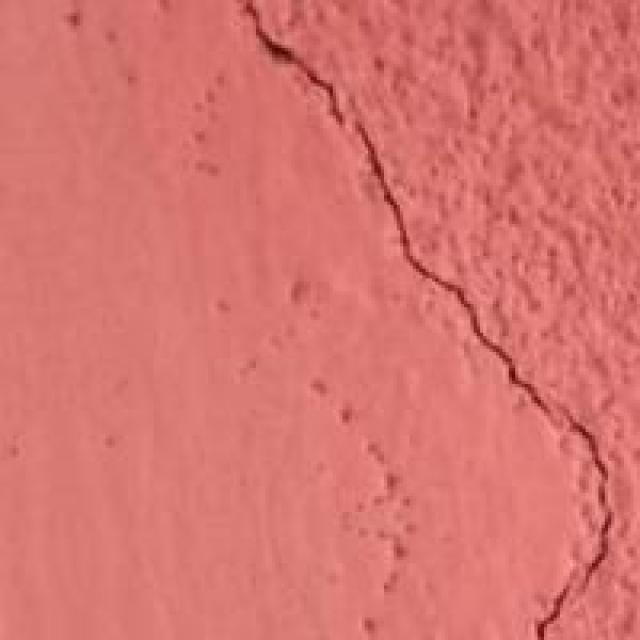crack: (226, 0, 624, 640)
